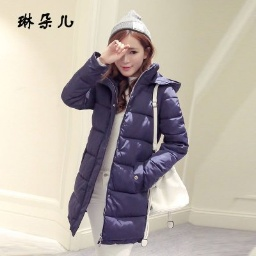face: (102, 27, 159, 95)
